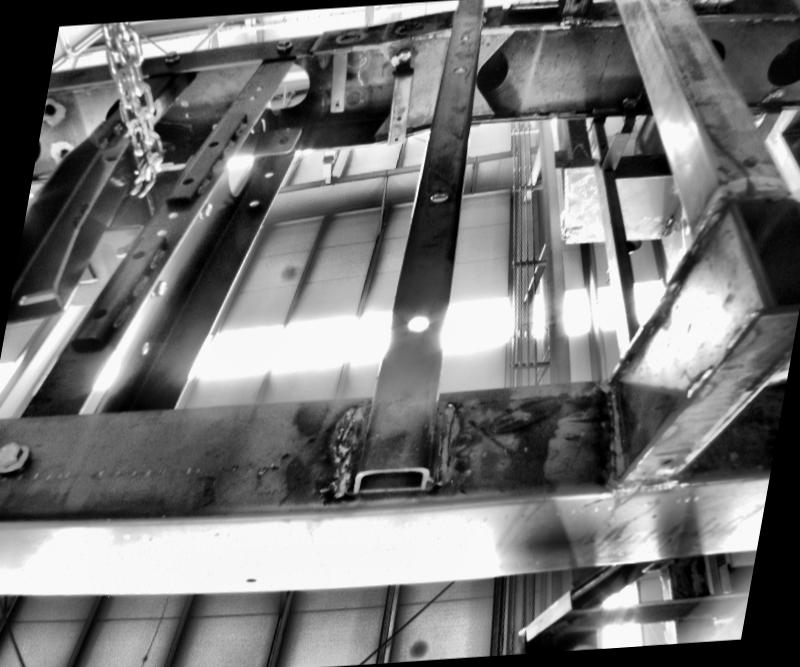bolt: (0, 442, 33, 475), (195, 199, 217, 221), (148, 280, 170, 300), (158, 50, 182, 68), (271, 37, 295, 53), (398, 50, 412, 61)
bracket: (382, 44, 414, 152), (245, 122, 305, 158), (324, 46, 352, 116), (596, 126, 636, 174)
hole: (238, 62, 316, 110), (401, 308, 434, 338), (425, 186, 451, 204), (738, 156, 760, 170), (138, 339, 152, 355), (44, 102, 59, 116), (90, 308, 106, 320), (658, 458, 672, 470), (128, 251, 144, 260), (204, 140, 220, 148), (452, 66, 468, 74), (274, 136, 288, 144), (154, 228, 168, 236), (181, 177, 194, 185), (248, 199, 258, 207), (166, 213, 178, 219), (263, 171, 273, 177), (460, 34, 470, 40), (614, 137, 624, 143), (242, 578, 256, 582), (256, 84, 264, 90), (334, 101, 340, 107), (392, 138, 400, 142), (248, 95, 256, 99), (395, 117, 401, 121), (574, 0, 582, 3)
welding: (424, 394, 469, 488), (332, 392, 355, 500)
